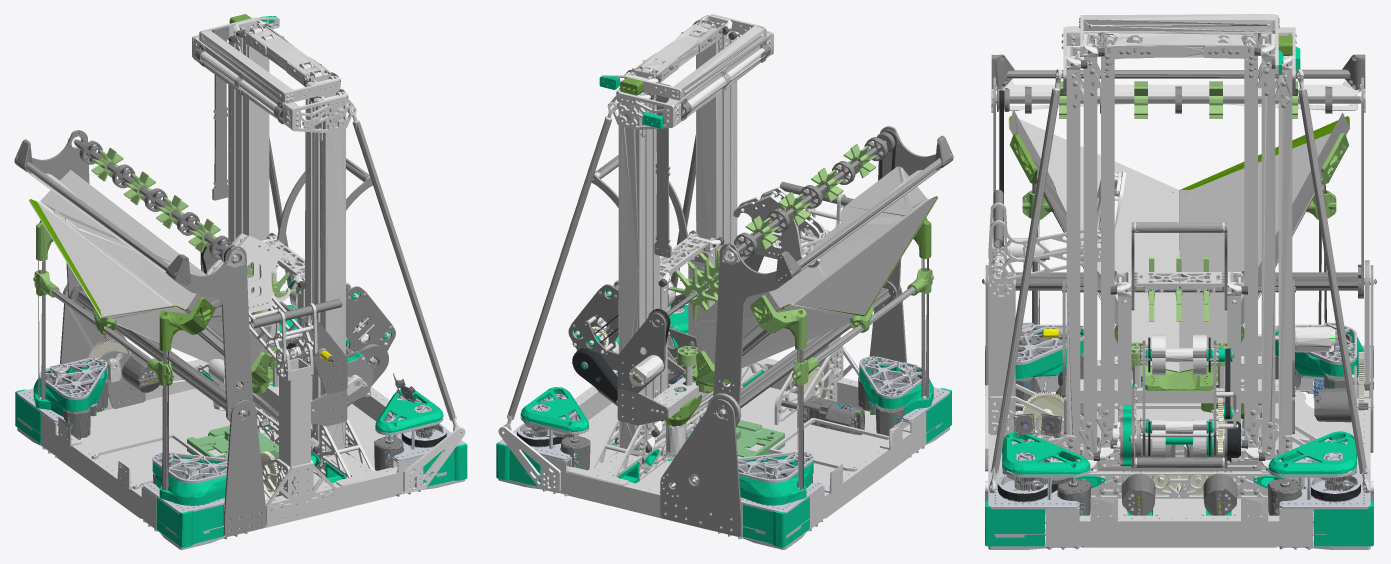
Rendered from wisp-422.glb.
The picture shows the model from 3 angles, left to right: view 1: azimuth 30°, elevation 25°; view 2: azimuth 150°, elevation 25°; view 3: azimuth 270°, elevation 25°; orthographic projection. The views are drawn at different scales.
Visible parts, largest first — view 1: frame, intake, elevator-stage-2, effector, elevator-stage, climber, carriage; view 2: frame, intake, elevator-stage-2, effector, elevator-stage, climber, carriage; view 3: frame, elevator-stage-2, elevator-stage, intake, effector, carriage, climber.
Boxes of the visible parts, <box> form: frame: <box>15,14,467,549</box>; intake: <box>14,130,253,421</box>; elevator-stage-2: <box>242,24,332,437</box>; effector: <box>268,158,395,406</box>; elevator-stage: <box>233,19,340,453</box>; climber: <box>205,233,342,364</box>; carriage: <box>250,233,306,358</box>; frame: <box>496,14,951,549</box>; intake: <box>711,126,953,420</box>; elevator-stage-2: <box>631,20,722,441</box>; effector: <box>568,155,708,405</box>; elevator-stage: <box>623,15,732,452</box>; climber: <box>733,181,853,267</box>; carriage: <box>658,230,724,424</box>; frame: <box>985,14,1374,549</box>; elevator-stage-2: <box>1093,33,1265,468</box>; elevator-stage: <box>1078,32,1280,472</box>; intake: <box>982,54,1376,298</box>; effector: <box>1112,222,1245,468</box>; carriage: <box>1110,271,1247,455</box>; climber: <box>988,172,1126,282</box>.
Size of the model in its own units: 0.726 by 0.9508 by 0.7343.
